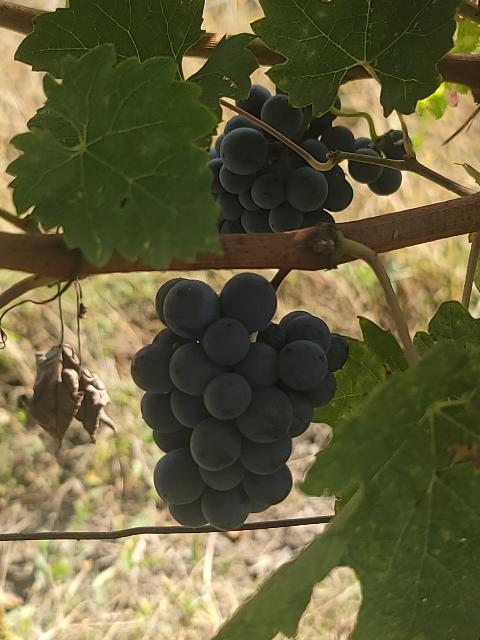grapes: (131, 272, 349, 530), (208, 115, 352, 232), (238, 85, 405, 162)
